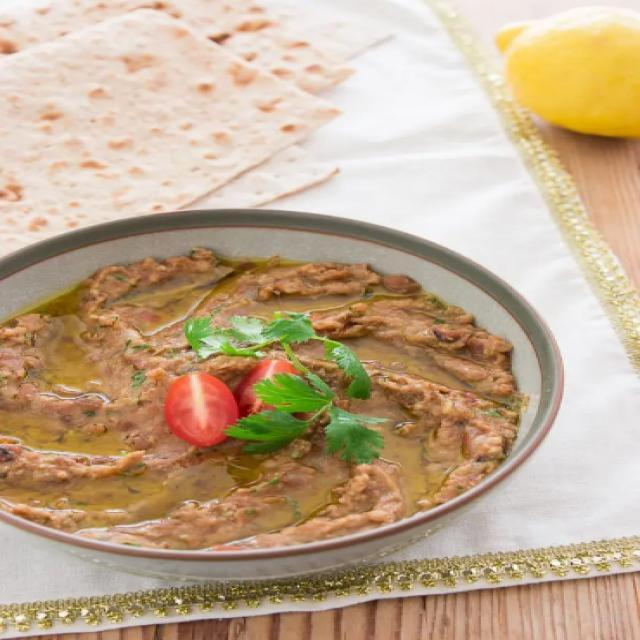fool: (2, 246, 538, 550)
